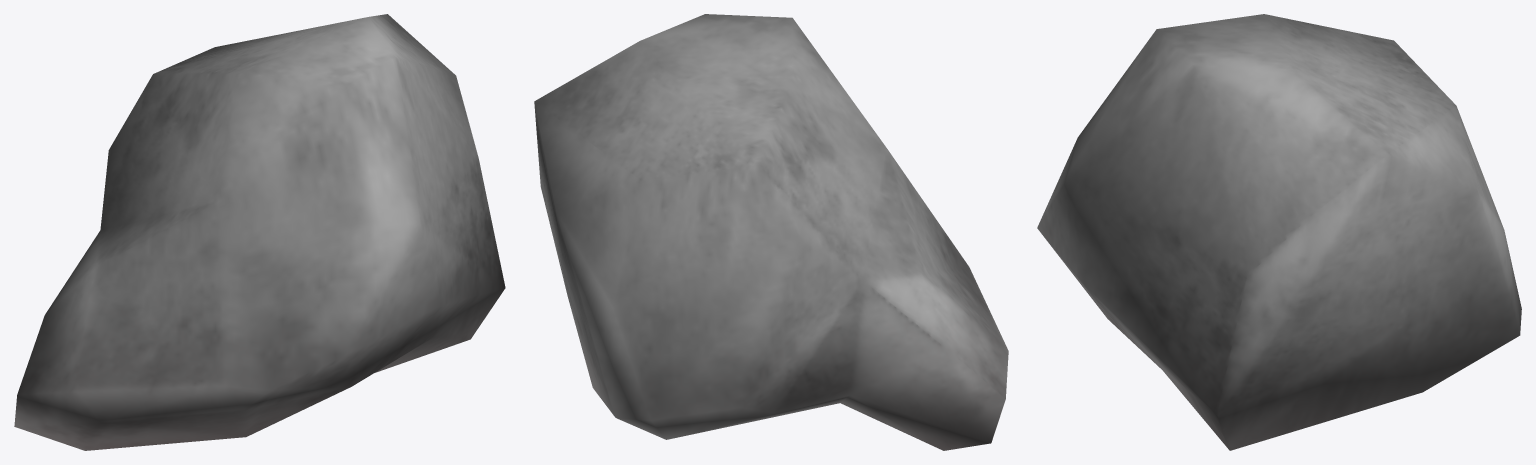
Rendered from Rock2.fbx.
3 views of the same model, side by side, from view 1: azimuth 30°, elevation 25°; view 2: azimuth 150°, elevation 25°; view 3: azimuth 270°, elevation 25° (orthographic). The views are drawn at different scales.
Visible parts, largest first — view 1: Rock2_LOD0; view 2: Rock2_LOD0; view 3: Rock2_LOD0.
Boxes of the visible parts, x1,y1,x2,y2 form: Rock2_LOD0: (14, 14, 505, 450); Rock2_LOD0: (534, 14, 1008, 450); Rock2_LOD0: (1037, 14, 1521, 450).
Size of what is drawn, in the model's own units: 2.32 by 1.68 by 1.97.
